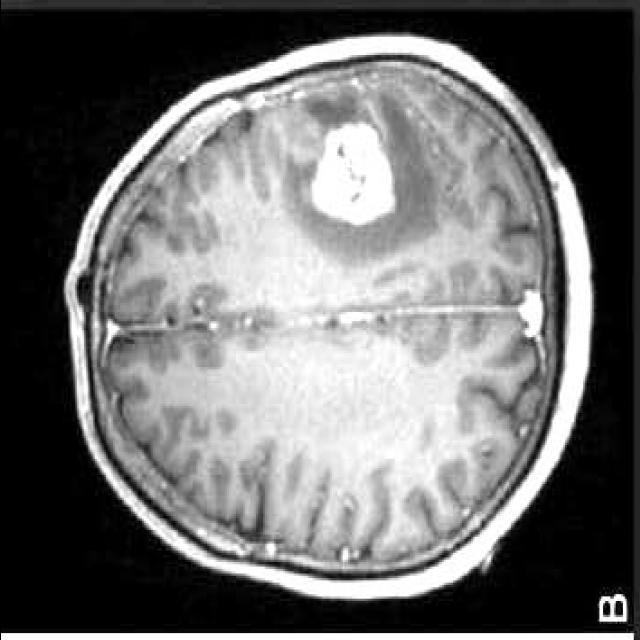tumor: (304, 124, 394, 229)
